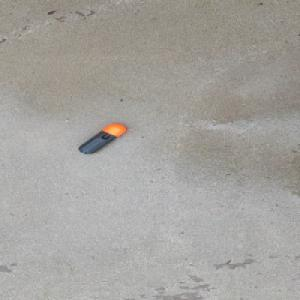PlasticPart: (77, 123, 127, 154)
